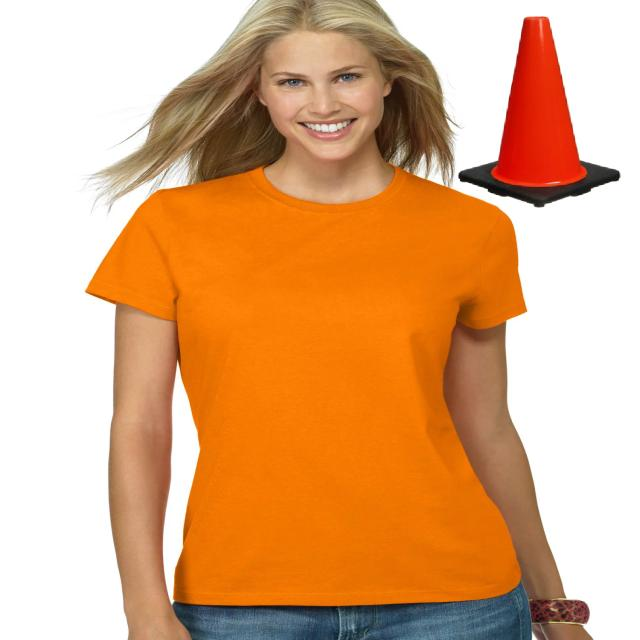traffic cone: (445, 7, 627, 212)
